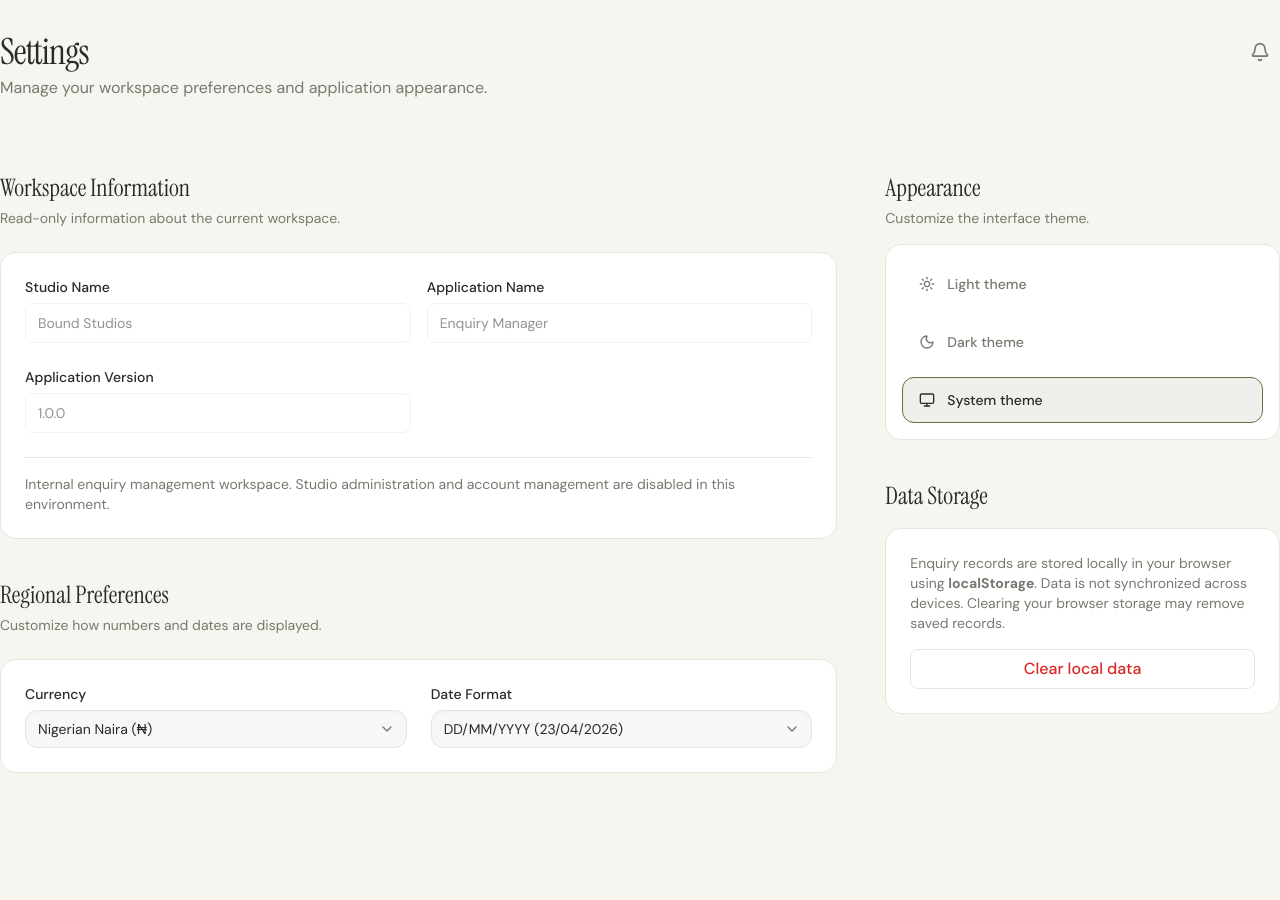
Test: Settings page › clears all application data after confirmation
Click the button "Clear local data" at (1083, 669), box 910,649 -> 1255,689
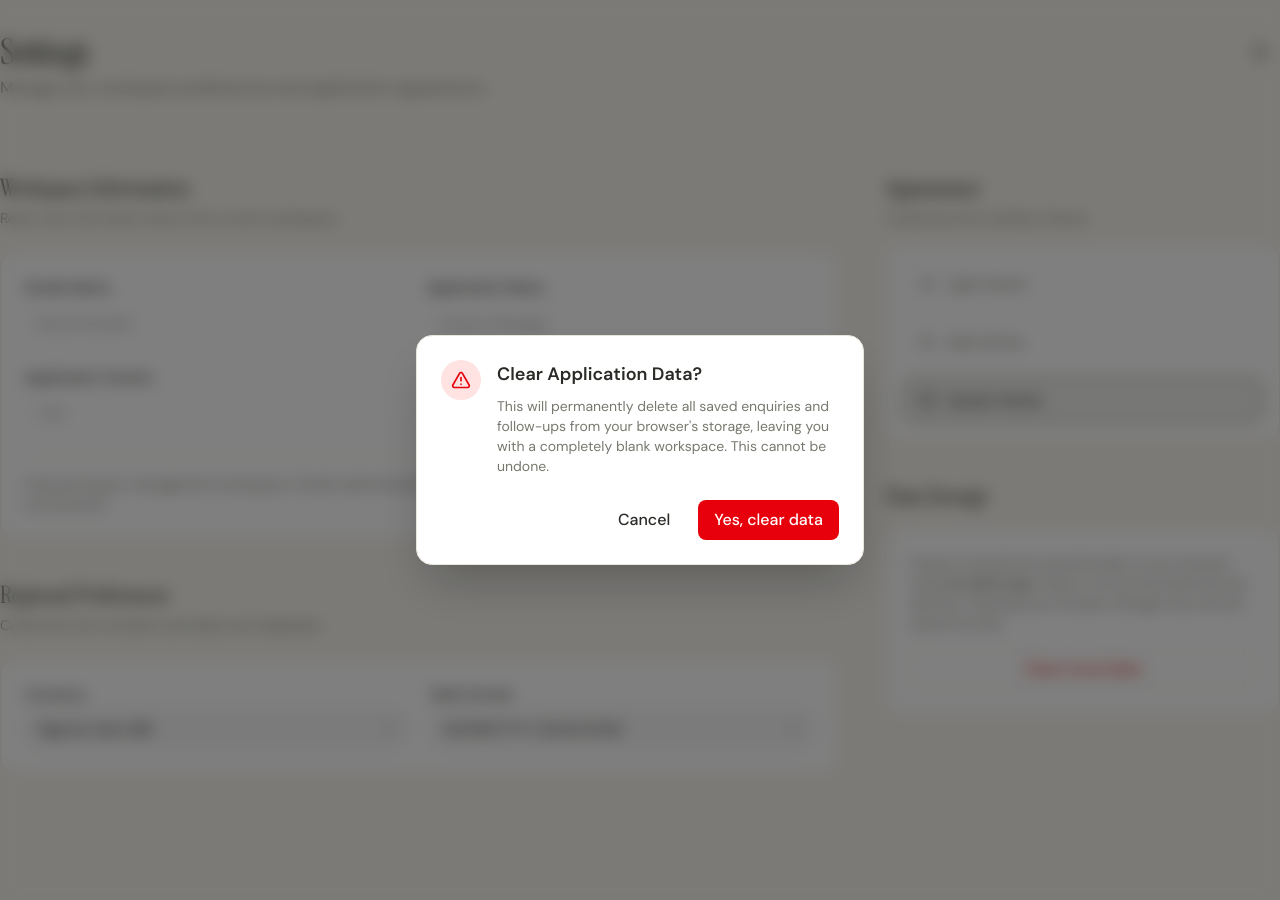
Click the button "Yes, clear data" at (769, 520), box 698,500 -> 839,540
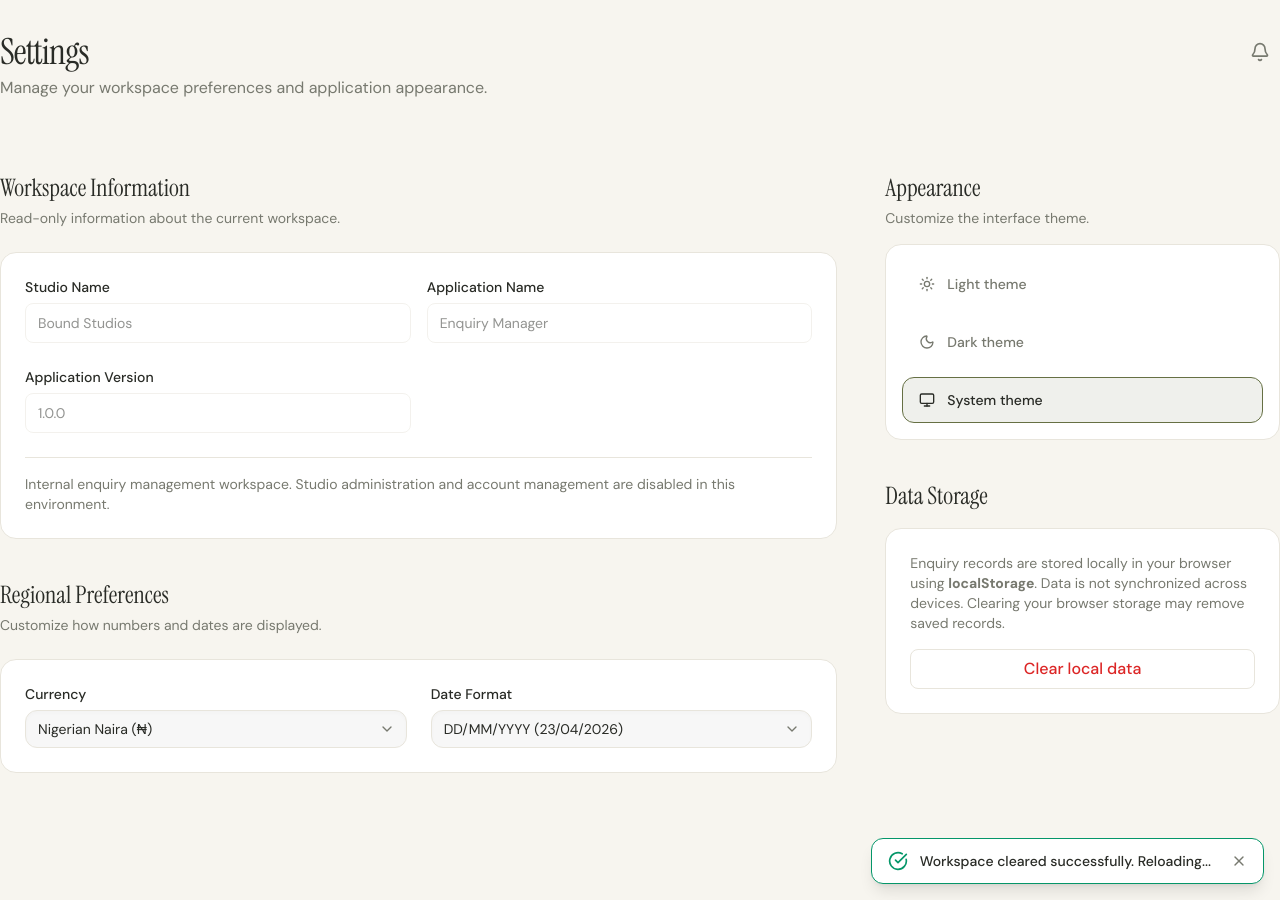
Expected: the heading "Clear Application Data?" is gone
Expected: the text "Workspace cleared successfully. Reloading..." is shown, 920,851 -> 1211,871
